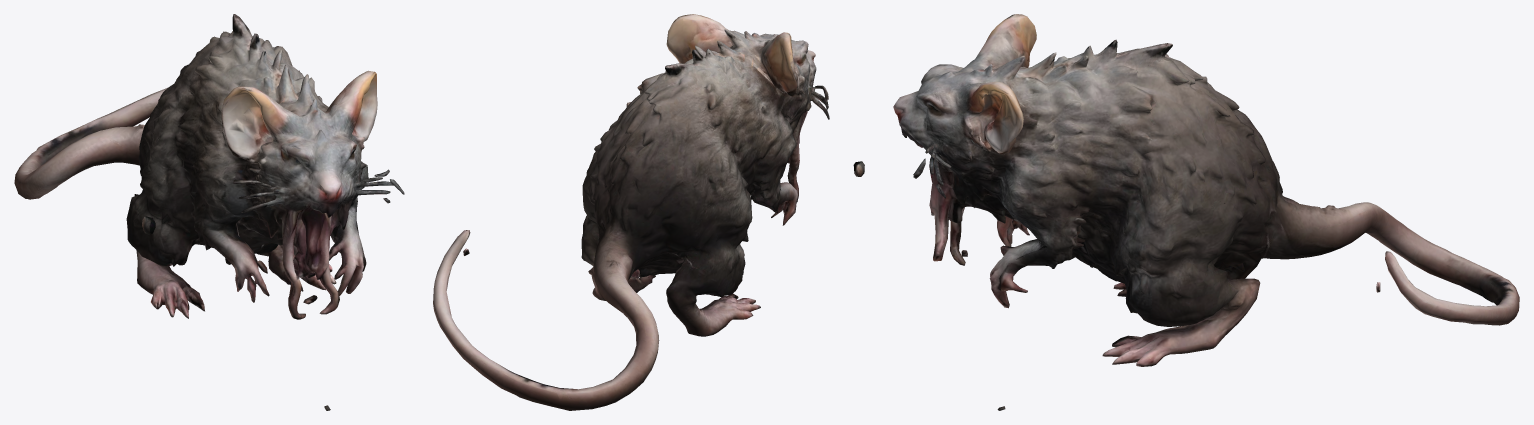
Rendered from giant-rat.glb.
The picture shows the model from 3 angles, left to right: view 1: azimuth 30°, elevation 25°; view 2: azimuth 150°, elevation 25°; view 3: azimuth 270°, elevation 25°; orthographic projection. The views are drawn at different scales.
Bounding box in the file's own units: 1.15 × 1.27 × 2.
1 material, 1 textured.
